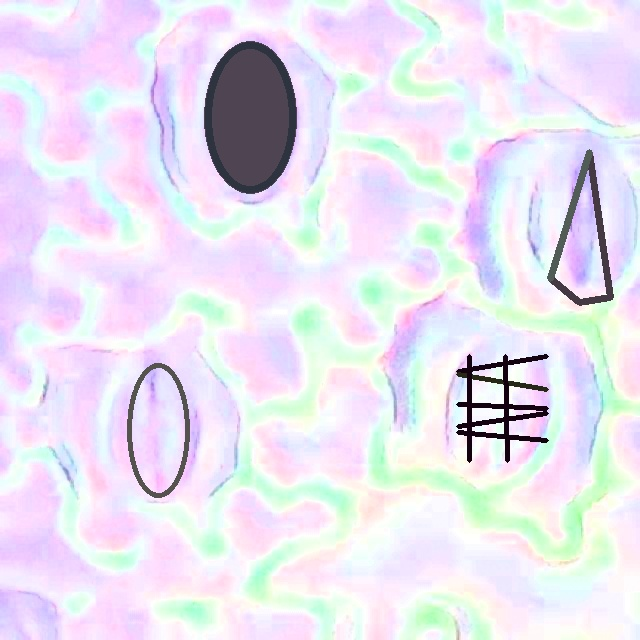close: (456, 355, 547, 461), (126, 362, 190, 497)
open: (205, 40, 295, 193), (548, 149, 613, 304)
